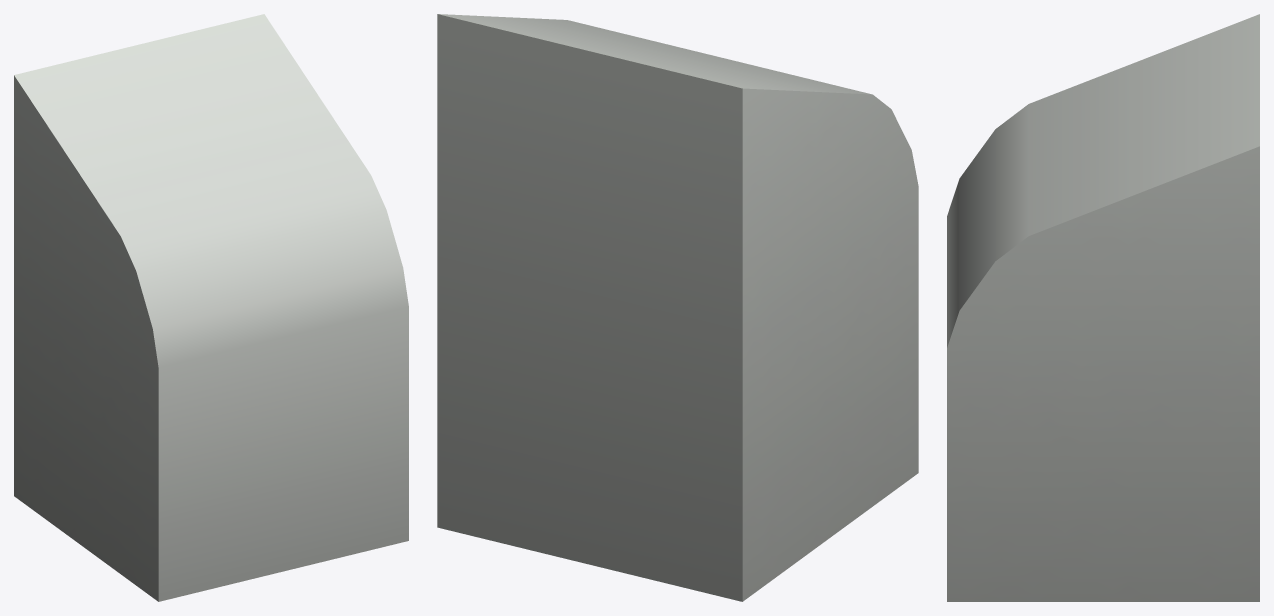
The model's file is Chamfered_Box_A.fbx.
3 renders of one model, left to right at view 1: azimuth 30°, elevation 25°; view 2: azimuth 150°, elevation 25°; view 3: azimuth 270°, elevation 25°, orthographic. The views are drawn at different scales.
Visible parts, largest first — view 1: Chamfered_Box_A; view 2: Chamfered_Box_A; view 3: Chamfered_Box_A.
Part boxes in pixels (bbox=[...]): Chamfered_Box_A: bbox=[14, 14, 408, 601]; Chamfered_Box_A: bbox=[437, 14, 918, 601]; Chamfered_Box_A: bbox=[947, 14, 1259, 601].
Bounding box in the file's own units: 100 × 161 × 100.
